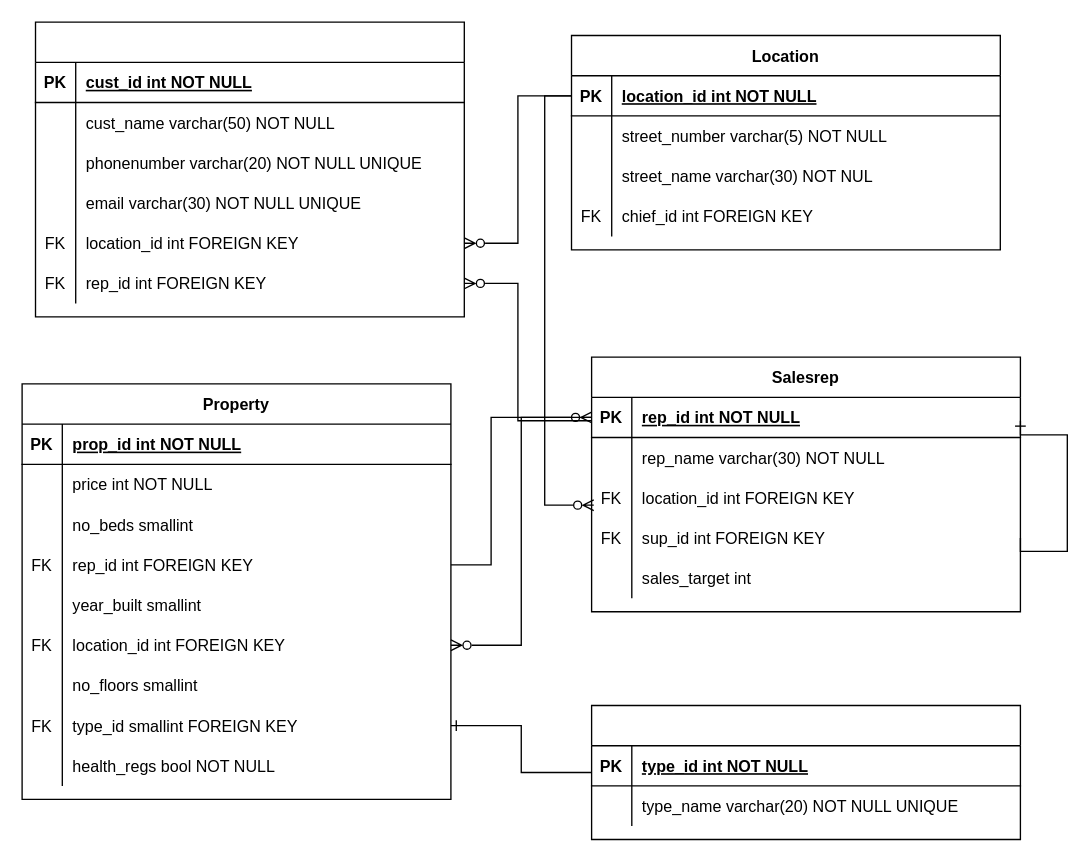
The diagram is 1089 pixels wide and 862 high, and some of its shapes have lost their labels. The box of each missing label's shape, as (x1, y1, x2, y2) in pixels:
Customers: (34, 21, 464, 317)
Property Type: (590, 704, 1020, 840)
